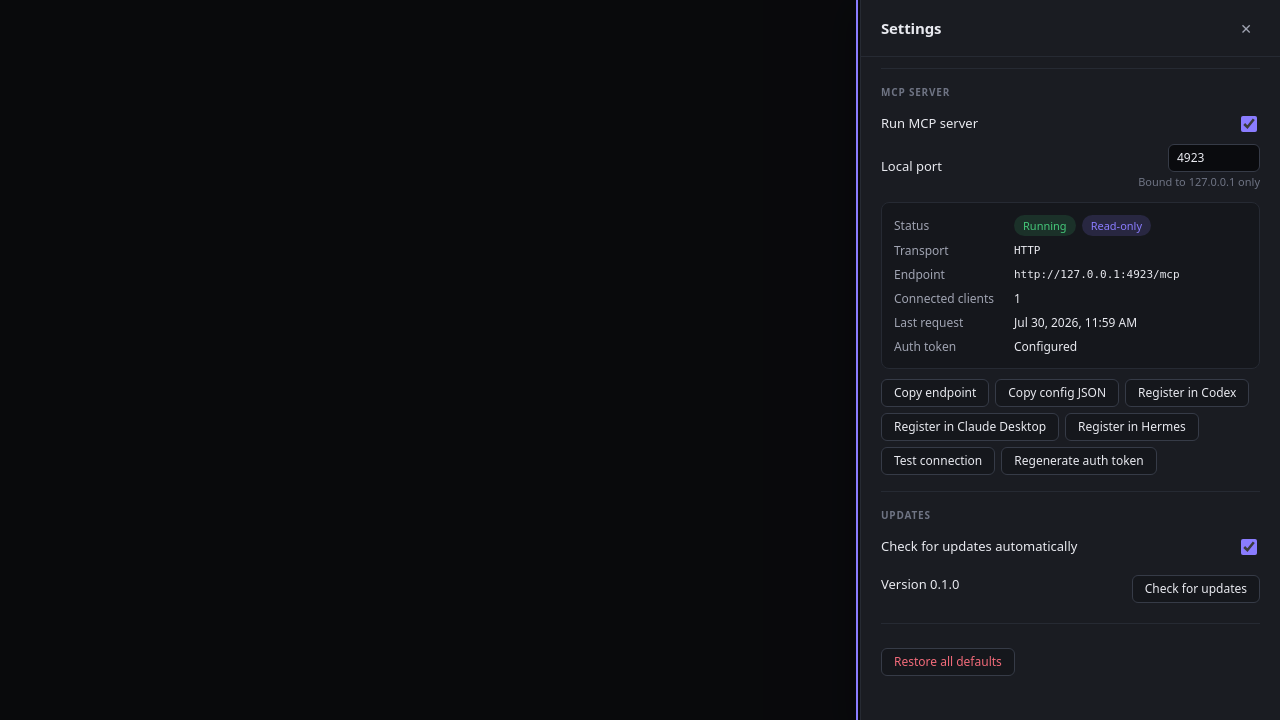
Test: SettingsDrawer MCP section › registers a client on an explicit click and toasts the success
(page scrolled)
Check: the dialog "Settings" is shown, box [860, 0, 1279, 719]
Click the button "Register in Codex" at point(1187, 393), box [1125, 379, 1249, 407]
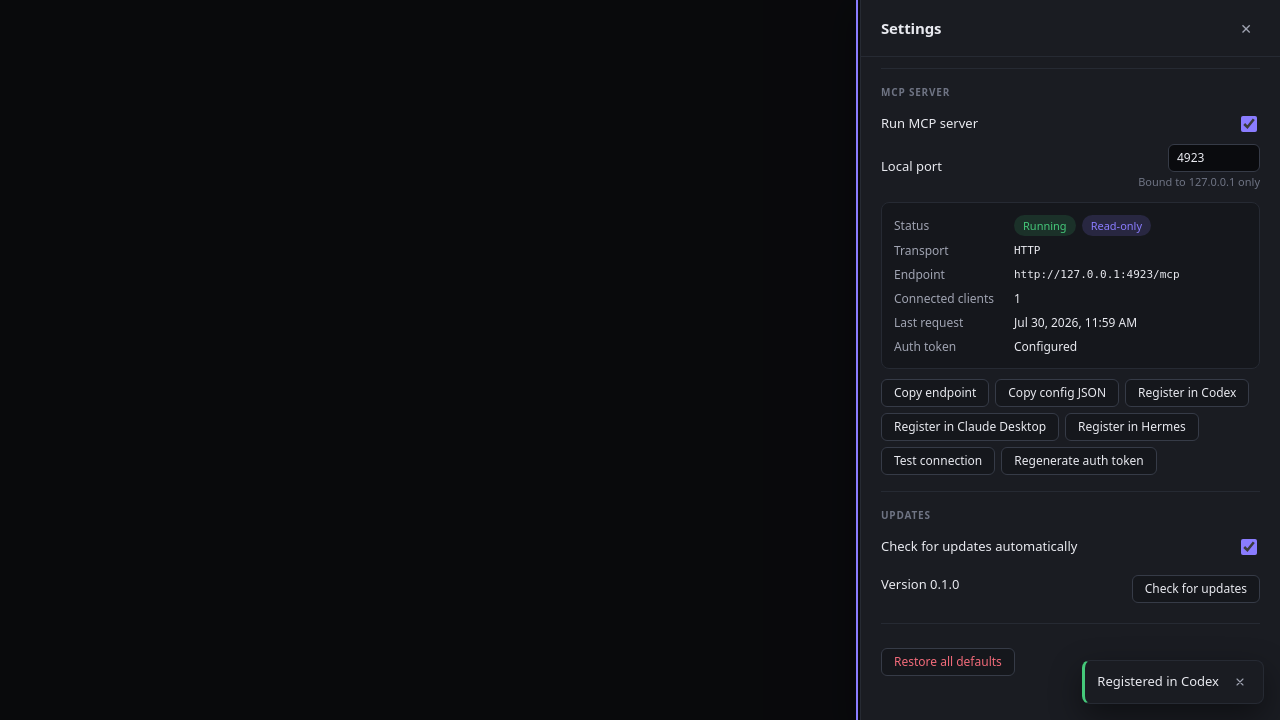
Check: the text "Registered in Codex" is shown, box [1097, 672, 1219, 692]
